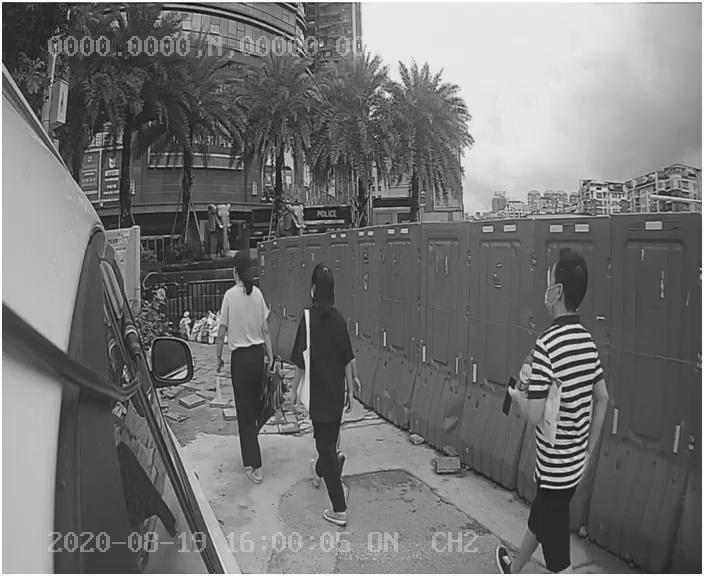person: (492, 244, 623, 558), (287, 263, 399, 517), (202, 249, 293, 488)
